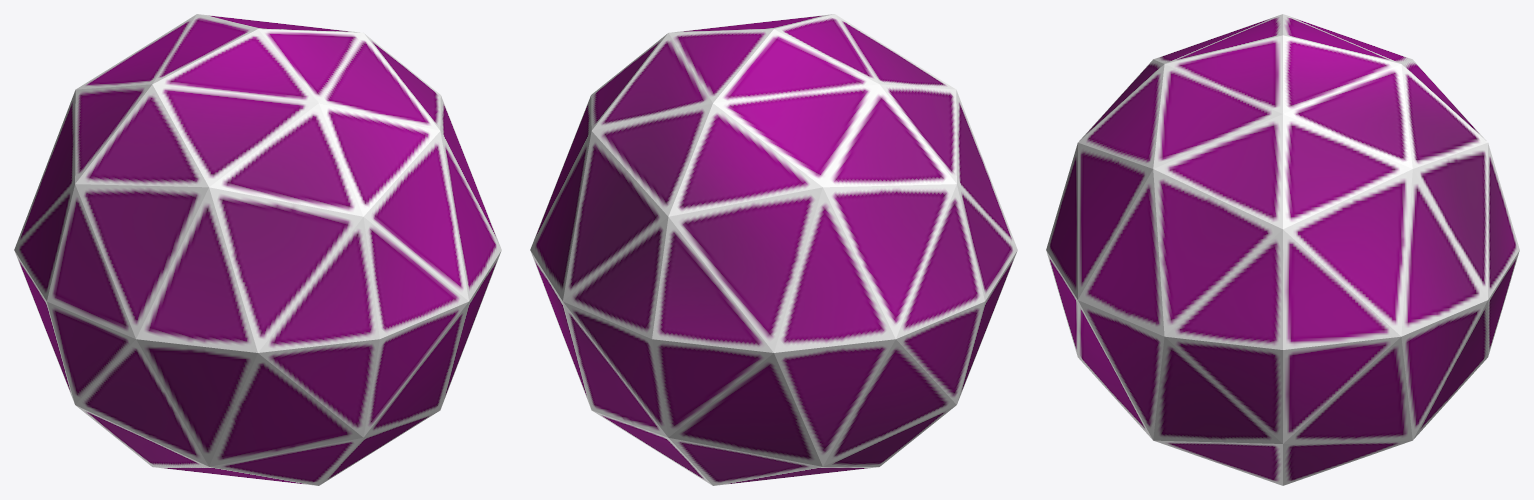
The model's file is BossMiddle.FBX.
The picture shows the model from 3 angles, left to right: view 1: azimuth 30°, elevation 25°; view 2: azimuth 150°, elevation 25°; view 3: azimuth 270°, elevation 25°; orthographic projection. The views are drawn at different scales.
Parts seen in each view (by area): view 1: BossMiddle; view 2: BossMiddle; view 3: BossMiddle.
Part boxes in pixels (left/top/right/bottom): BossMiddle: left=14, top=14, right=501, bottom=485; BossMiddle: left=530, top=14, right=1017, bottom=485; BossMiddle: left=1046, top=14, right=1519, bottom=485.
Bounding box in the file's own units: 51.53 × 51.53 × 51.53.
